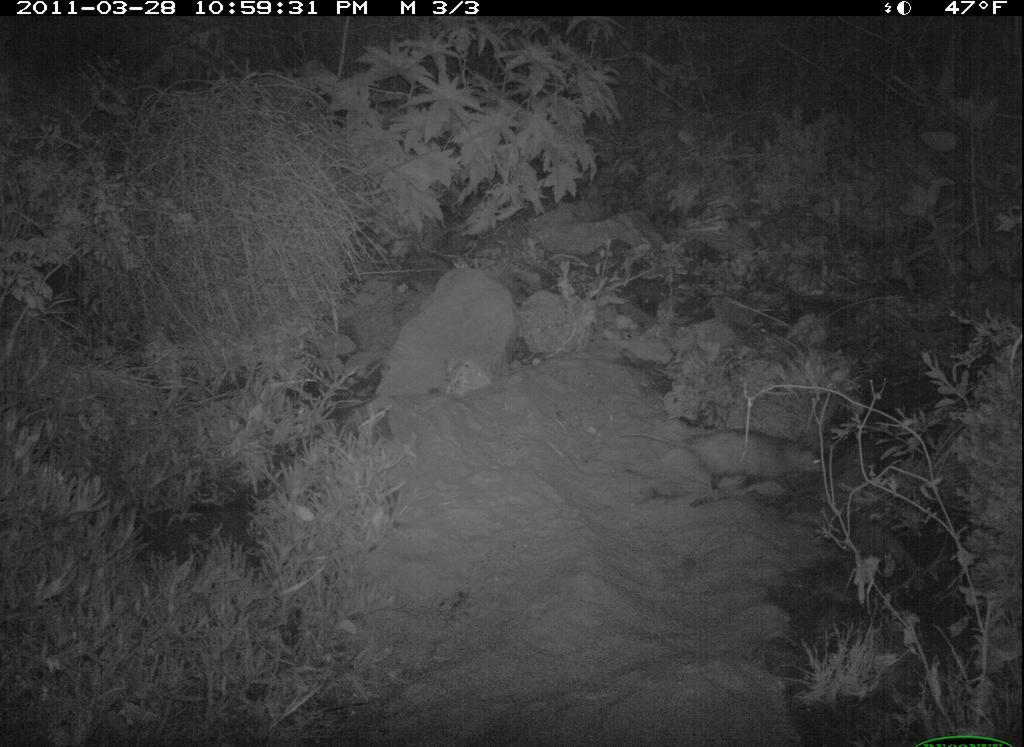opossum: (620, 411, 861, 513)
